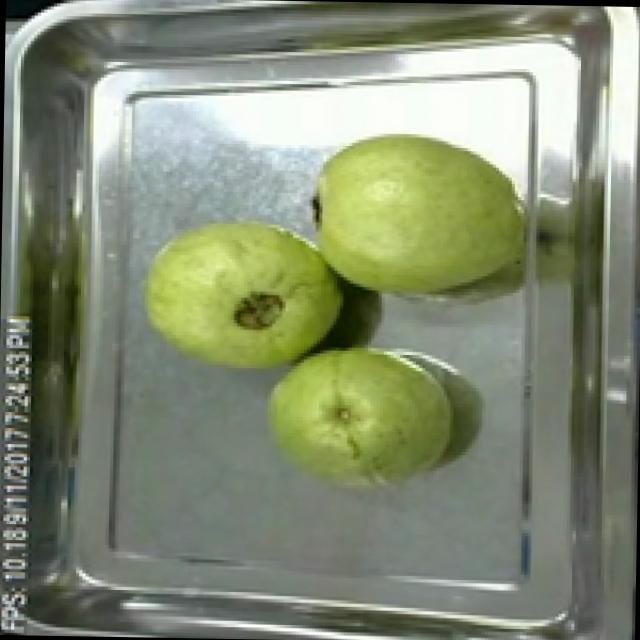Fruit: (302, 118, 528, 308), (130, 205, 354, 382), (256, 332, 461, 504)
